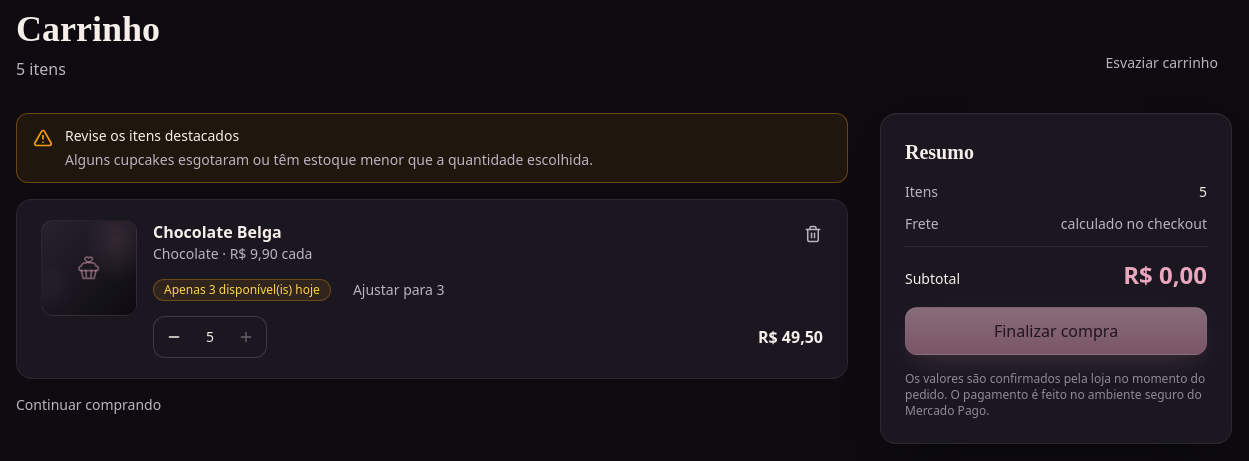
Test: CartPage › bloqueia o checkout com estoque insuficiente e permite ajustar (US08 RN#02)
Expected: the text "Apenas 3 disponível(is) hoje" is shown, [153,279,331,301]
Expected: the button "Finalizar compra" is disabled, [905,307,1207,355]
What coordinates should you click on to do the following:
click the button "Ajustar para 3"
I would click on:
 (399, 290)
Its box is [339,272,459,308].
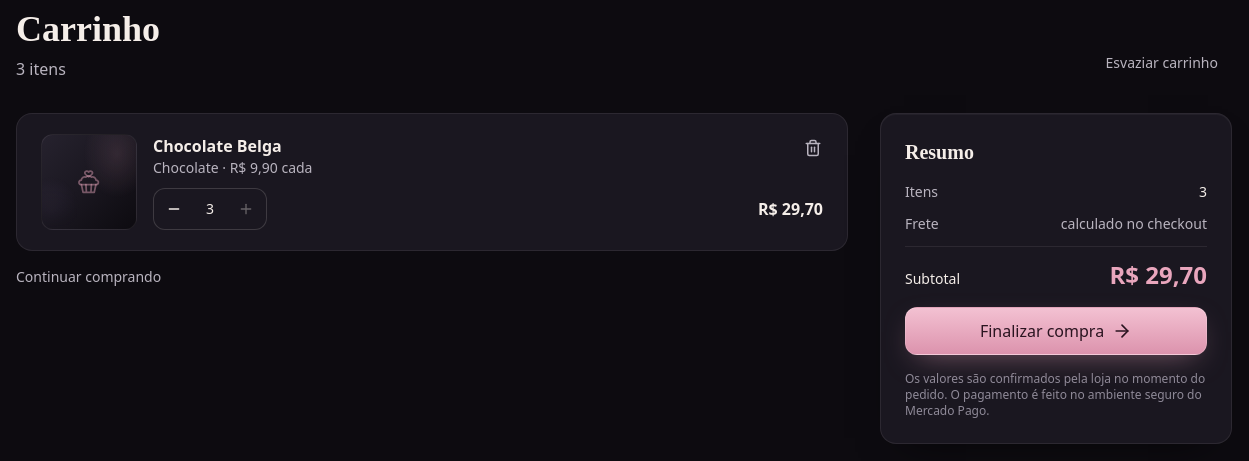
Expected: the link "Finalizar compra" is shown, [905,307,1207,355]
Expected: the text named "Quantidade de Chocolate Belga" reads "3", [206,199,214,218]
